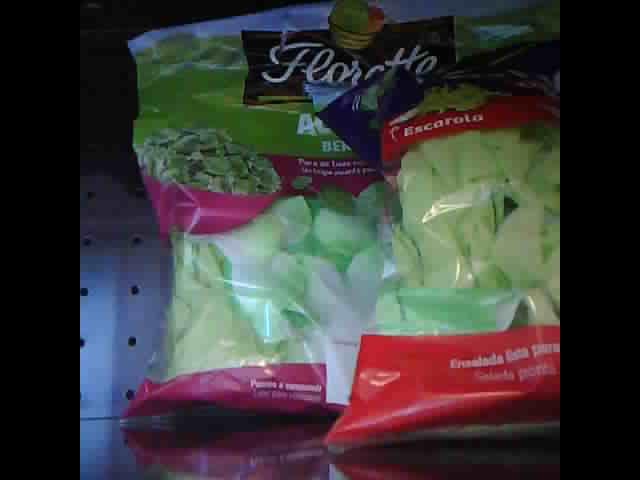florette: (117, 1, 490, 426), (304, 42, 559, 455)
